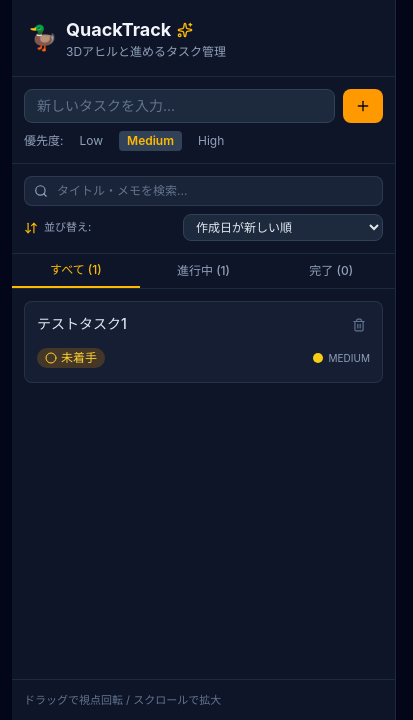
Test case: TaskPanel Component › allows adding a new task
The width and height of the screenshot is (413, 720).
Type "追加したタスク名" into the field with placeholder "新しいタスクを入力...". click: (180,106)
box: [24,89,335,123]
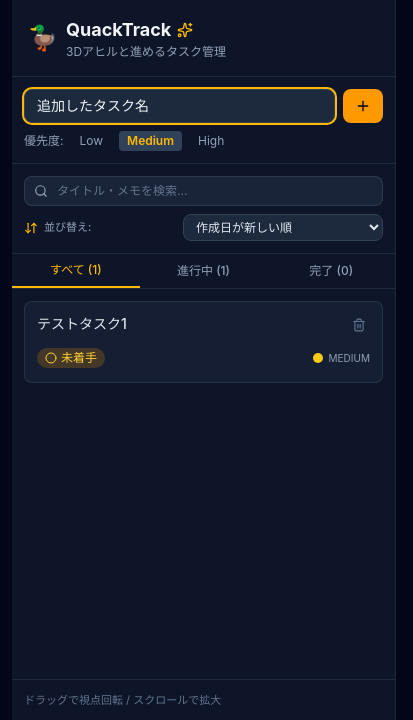
Click the button named "タスクを追加". click: (363,106)
box: [343,89,383,123]
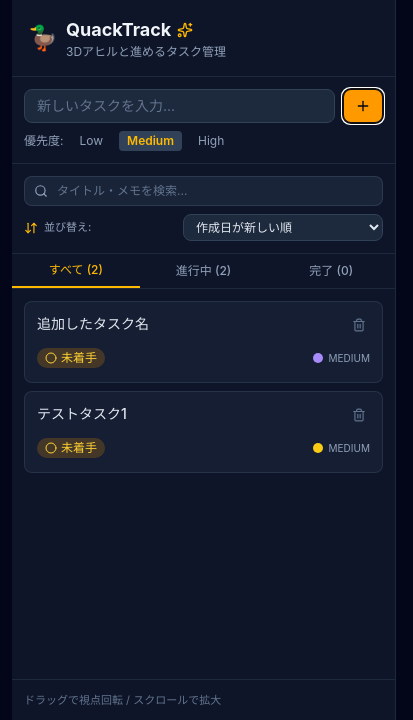
expect the text "追加したタスク名" is shown: met, box [37,315,149,332]
